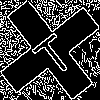T: (25, 25, 78, 80)
